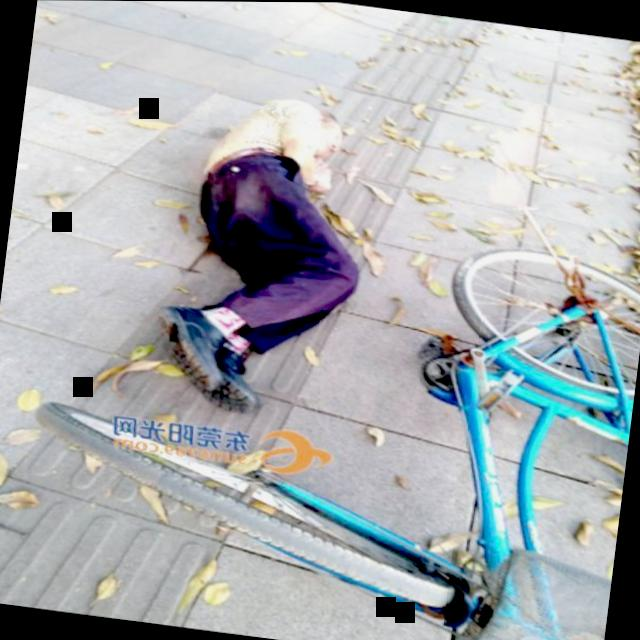Fall-Detected: (130, 64, 398, 427)
